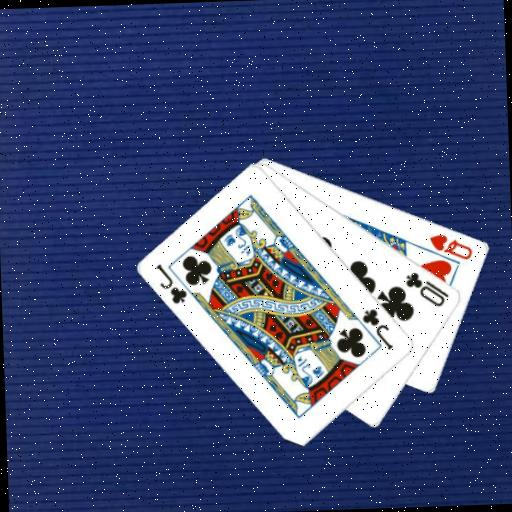10C: (402, 266, 451, 309)
JC: (358, 304, 395, 352), (153, 259, 190, 306)
QH: (426, 229, 475, 262)
